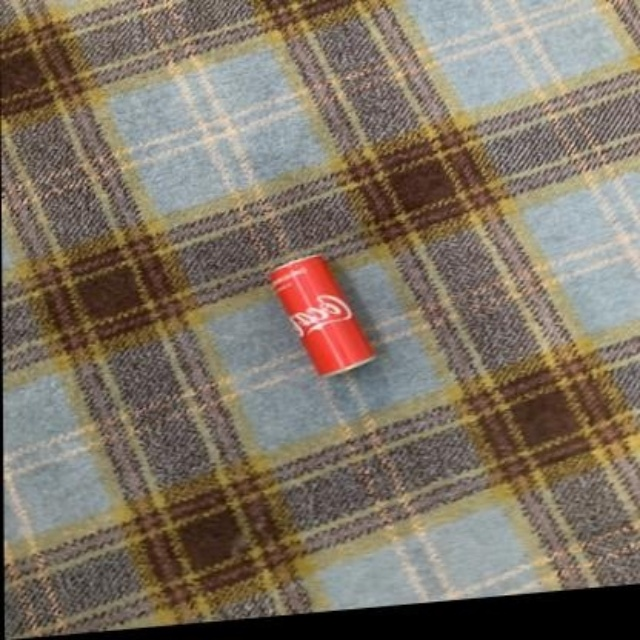trash: (271, 255, 374, 374)
